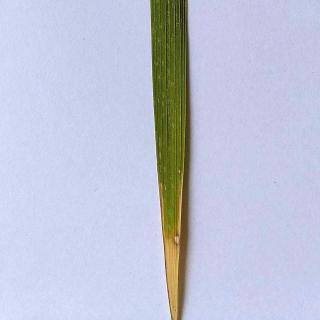Blast: (163, 210, 191, 270)
